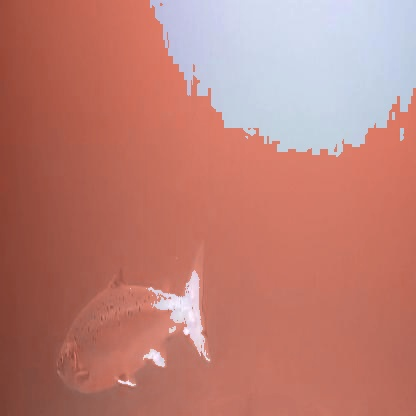salmon: (53, 229, 213, 400)
